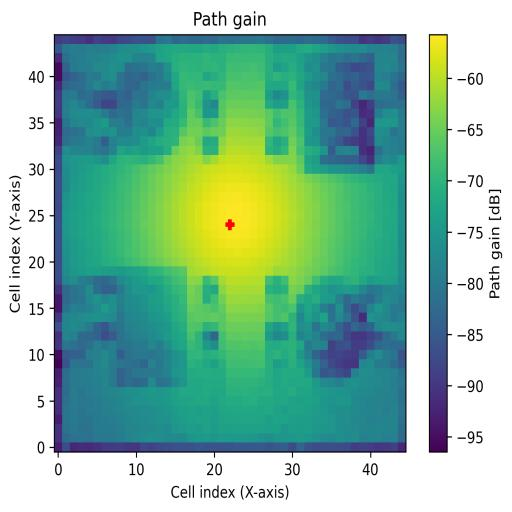Concrete: (304, 53, 374, 173)
Glass: (93, 64, 187, 155)
Metal: (297, 276, 383, 387)
Wood: (116, 268, 189, 388)
